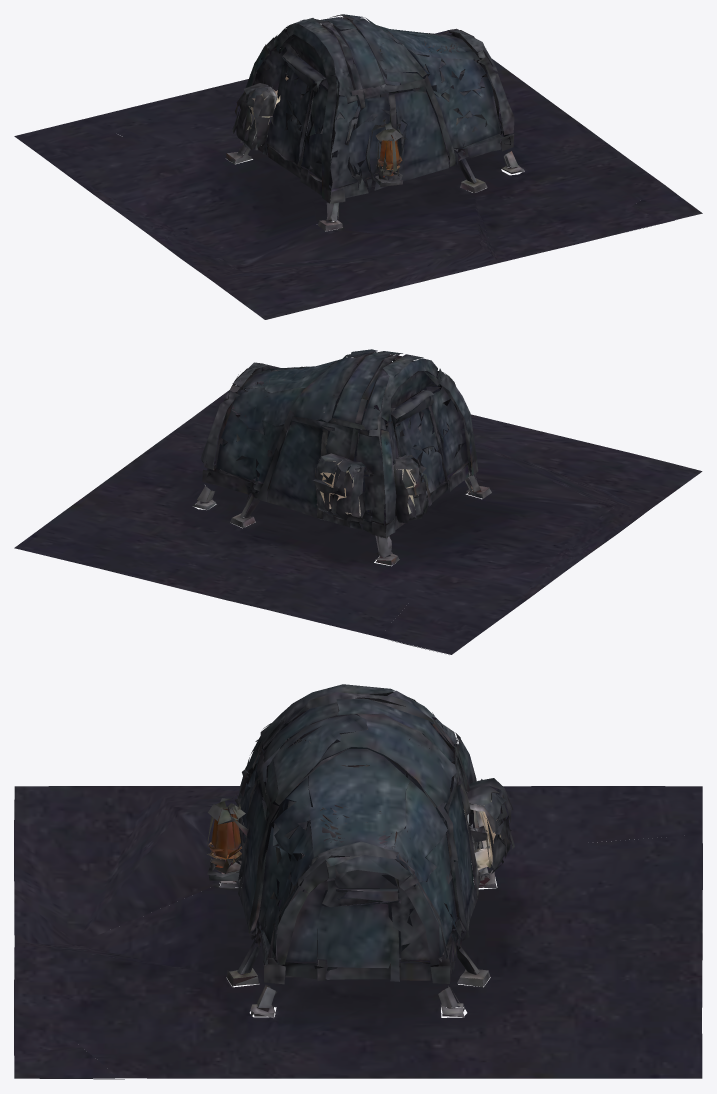
Rendered from prop-campsite-shelter-lod2.glb.
The picture shows the model from 3 angles, top to bottom: view 1: azimuth 30°, elevation 25°; view 2: azimuth 150°, elevation 25°; view 3: azimuth 270°, elevation 25°; orthographic projection. The views are drawn at different scales.
Visible parts, largest first — view 1: xenovoya_runtime_asset; view 2: xenovoya_runtime_asset; view 3: xenovoya_runtime_asset.
Part boxes in pixels (box(x1,y1,x2,y2)): xenovoya_runtime_asset: box(14, 14, 702, 319); xenovoya_runtime_asset: box(14, 349, 702, 654); xenovoya_runtime_asset: box(14, 684, 702, 1079).
Size of the model in its own units: 1 by 0.3489 by 0.9962.
1 material, 1 textured.
